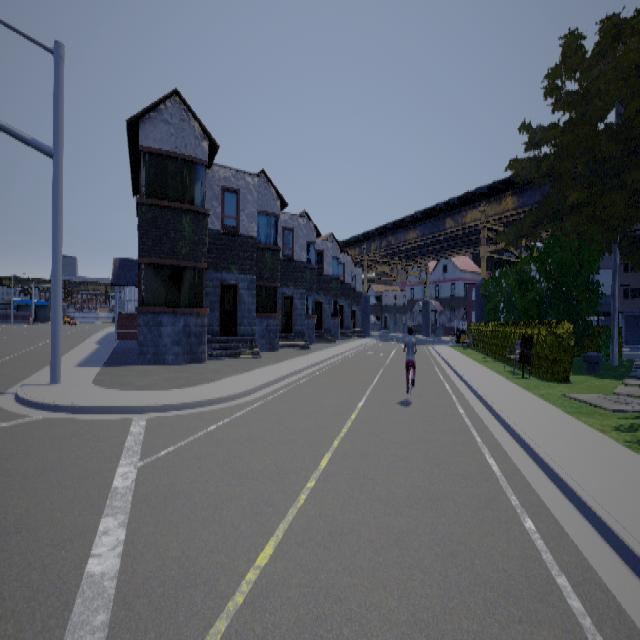bike: (397, 327, 418, 406)
